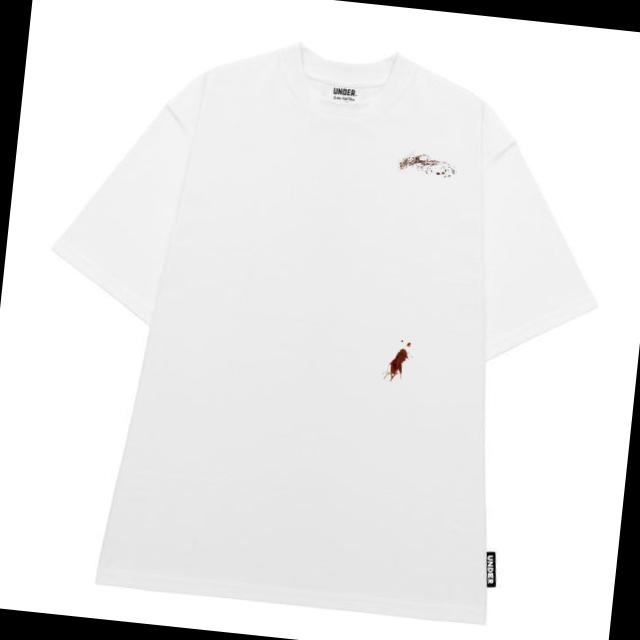stain: (390, 144, 460, 190), (377, 328, 422, 391)
